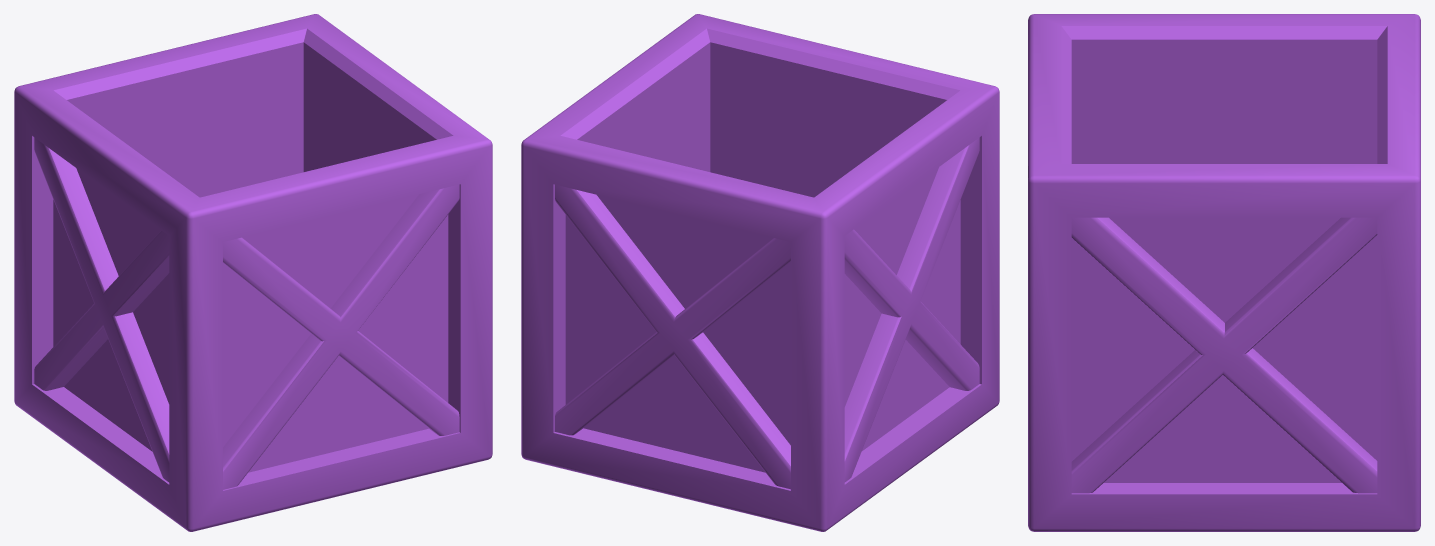
The model's file is wooden crateAlternate.fbx.
3 renders of one model, left to right at view 1: azimuth 30°, elevation 25°; view 2: azimuth 150°, elevation 25°; view 3: azimuth 270°, elevation 25°, orthographic. The views are drawn at different scales.
Visible parts, largest first — view 1: crate; view 2: crate; view 3: crate.
Boxes of the visible parts, box(x1,y1,x2,y2) form: crate: box(14, 14, 492, 531); crate: box(521, 14, 999, 531); crate: box(1028, 14, 1420, 531).
Bounding box in the file's own units: 200 × 200 × 200.
